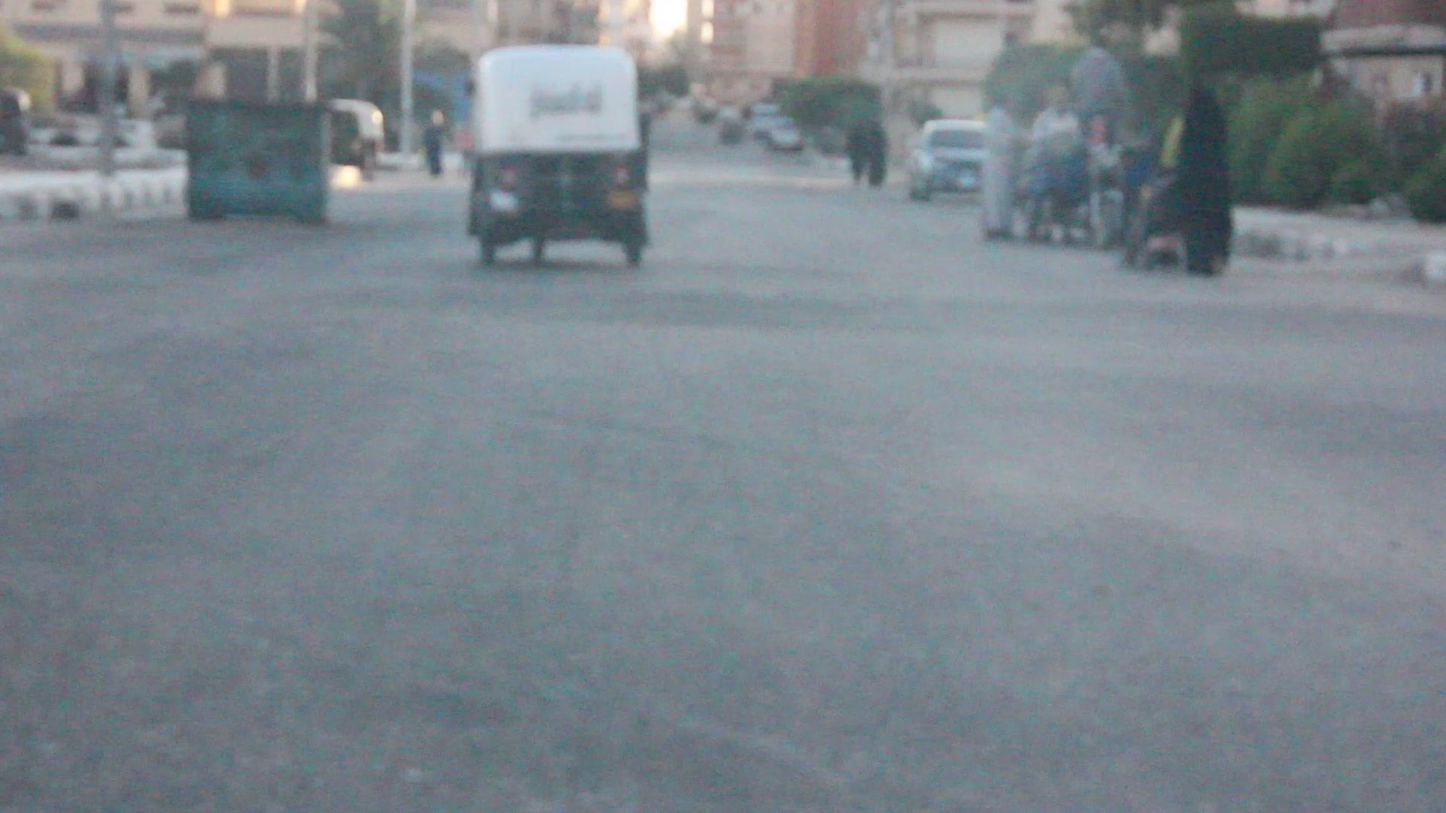Bump: (8, 275, 1446, 363)
